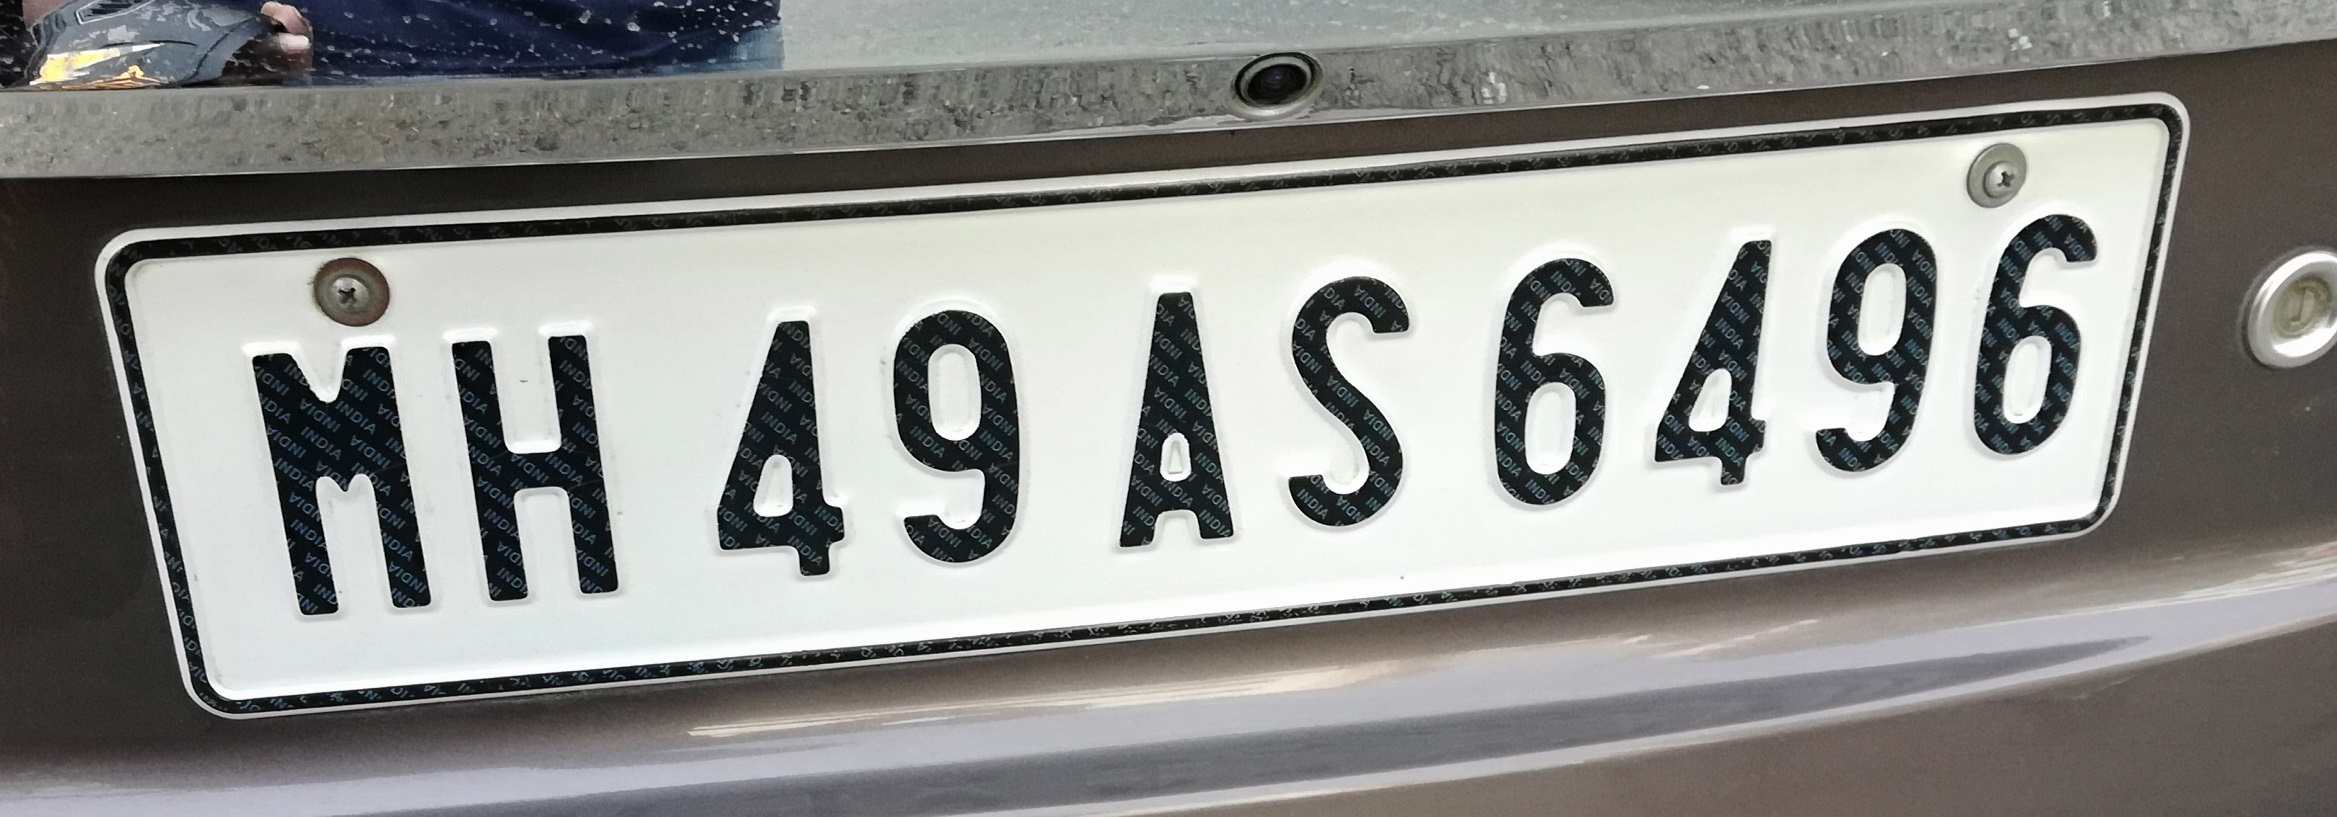numberplate: (99, 88, 2192, 722)
